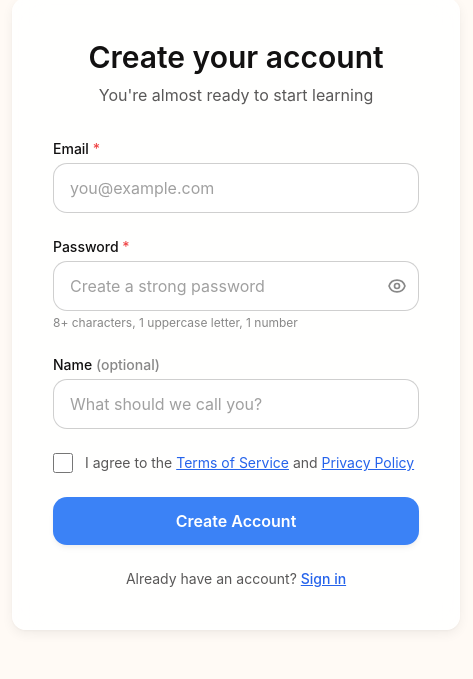
Test case: AccountCreationPage › error handling › shows inline error for duplicate email (409)
Type "existing@example.com" into the field labelled "Email *" at [236, 188], box 53,163 -> 419,213
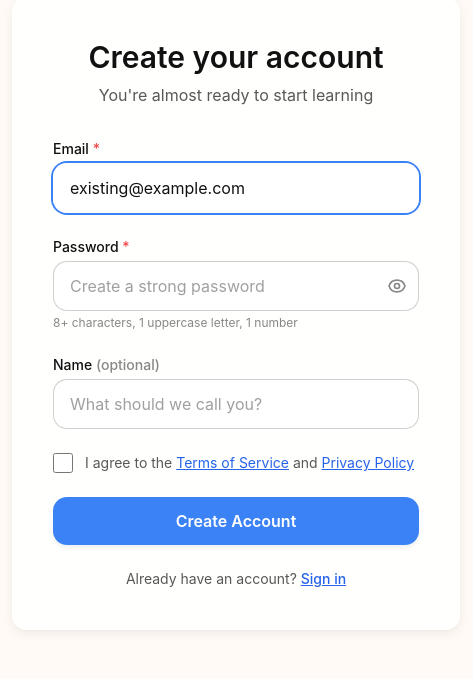
Type "SecurePass123" into the password field labelled "Password *" at [236, 286], box 53,261 -> 419,311
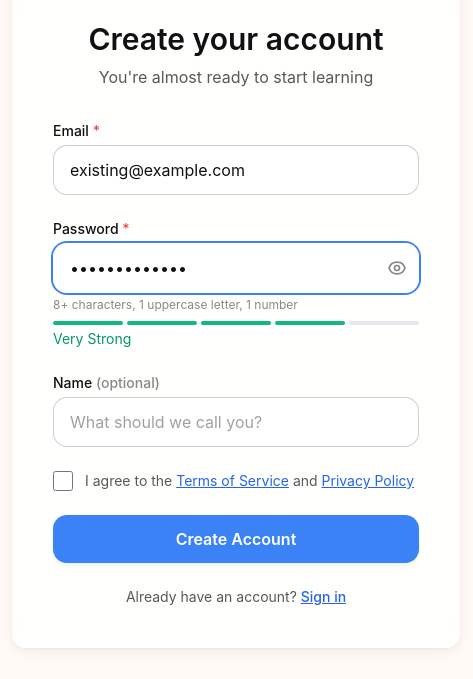
Click the checkbox at [63, 481], box 53,471 -> 73,491
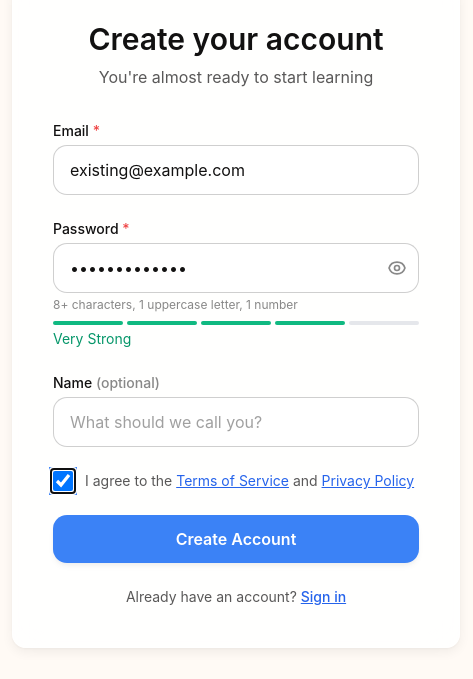
Click the button "Create Account" at [236, 539], box 53,515 -> 419,563
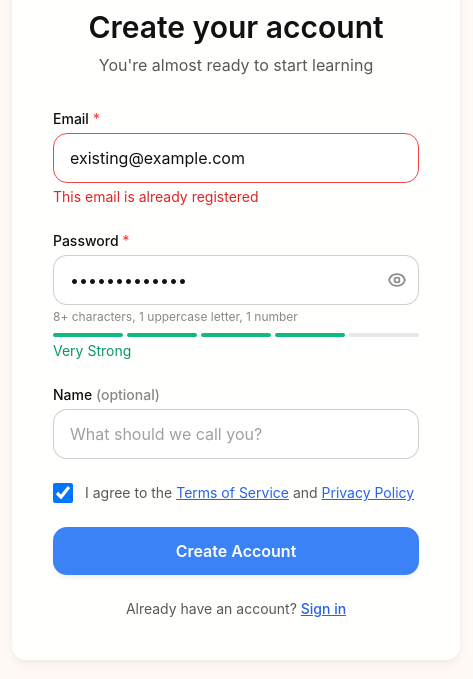
Expected: the text "This email is already registered" is shown, 53,188 -> 259,205
